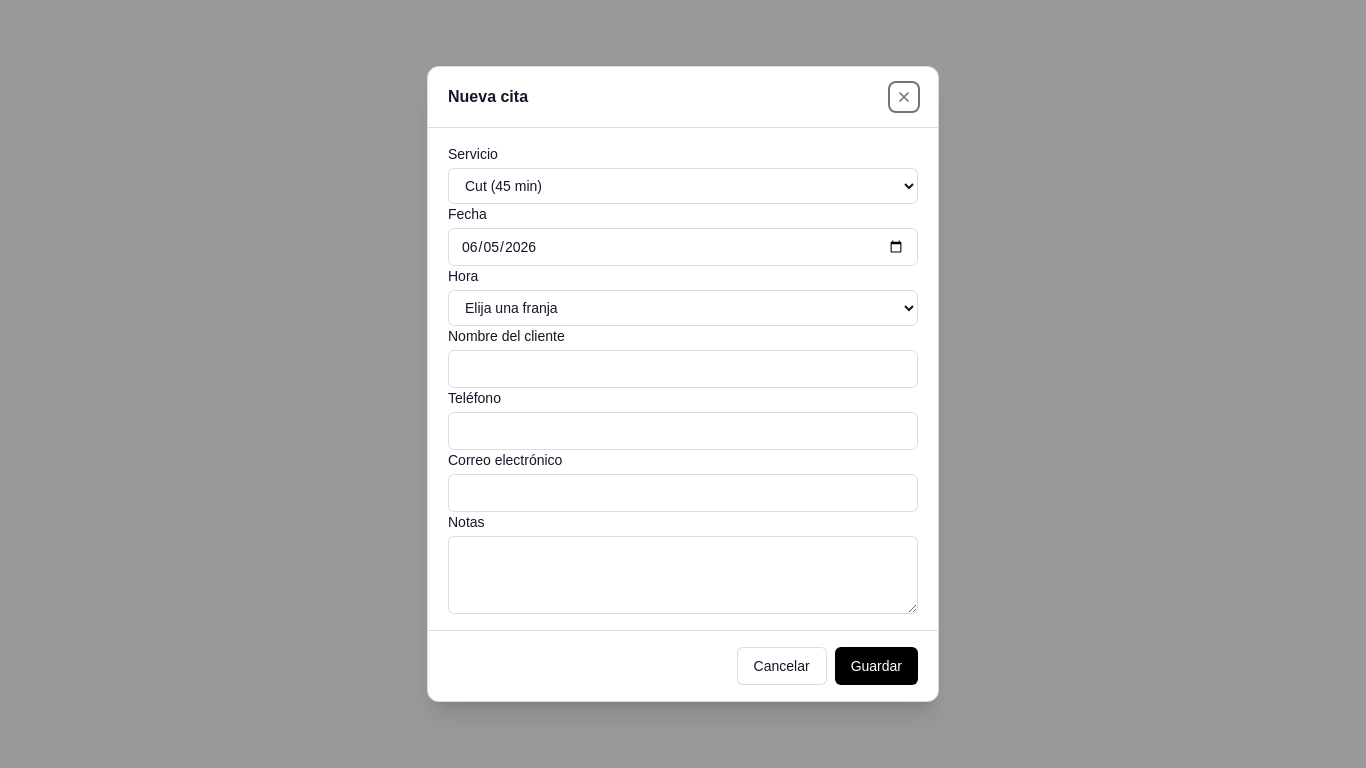
Test case: NewAppointmentModal › shows the API error message when save fails
The image size is (1366, 768).
Select "09:00" in the dropdown labelled "Hora": (683, 308) [448, 290, 918, 326]
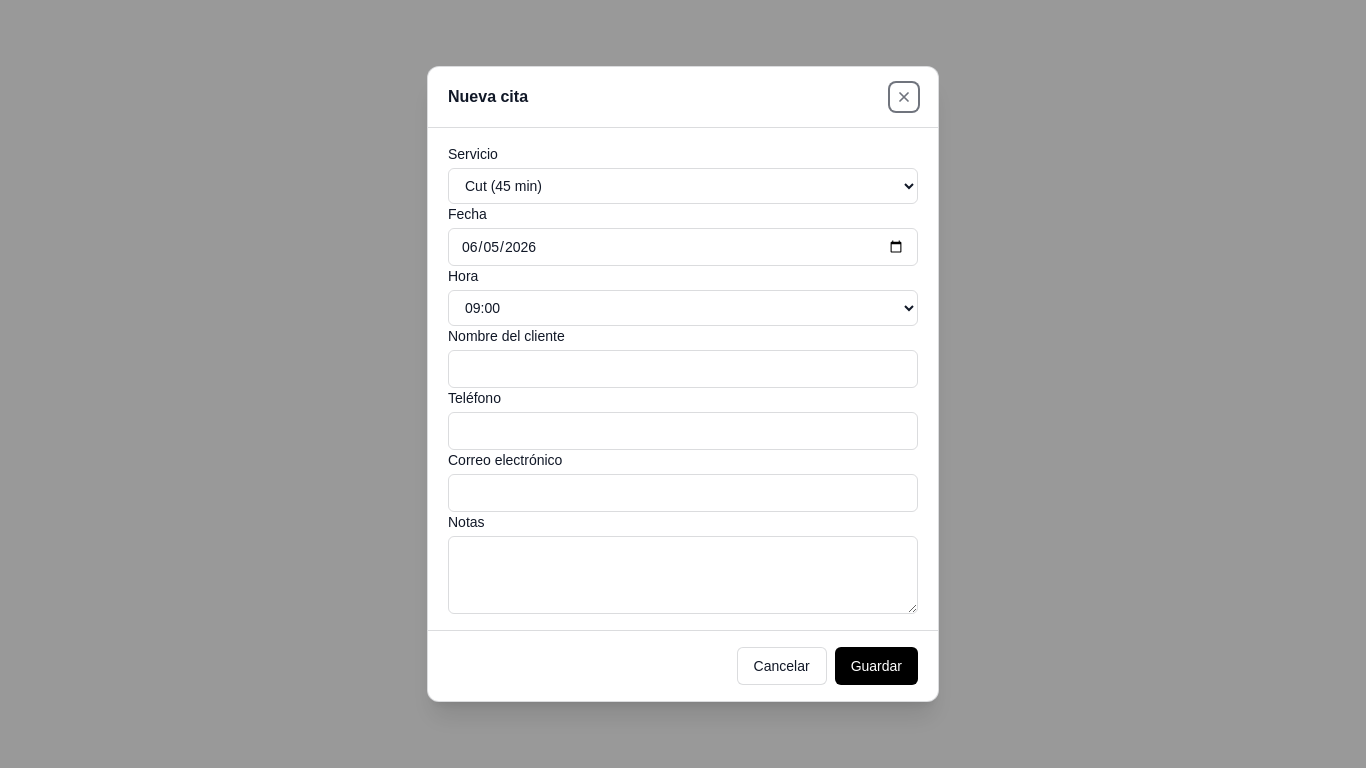
In the field labelled "Nombre del cliente": (683, 369) [448, 350, 918, 388], type "Casey"
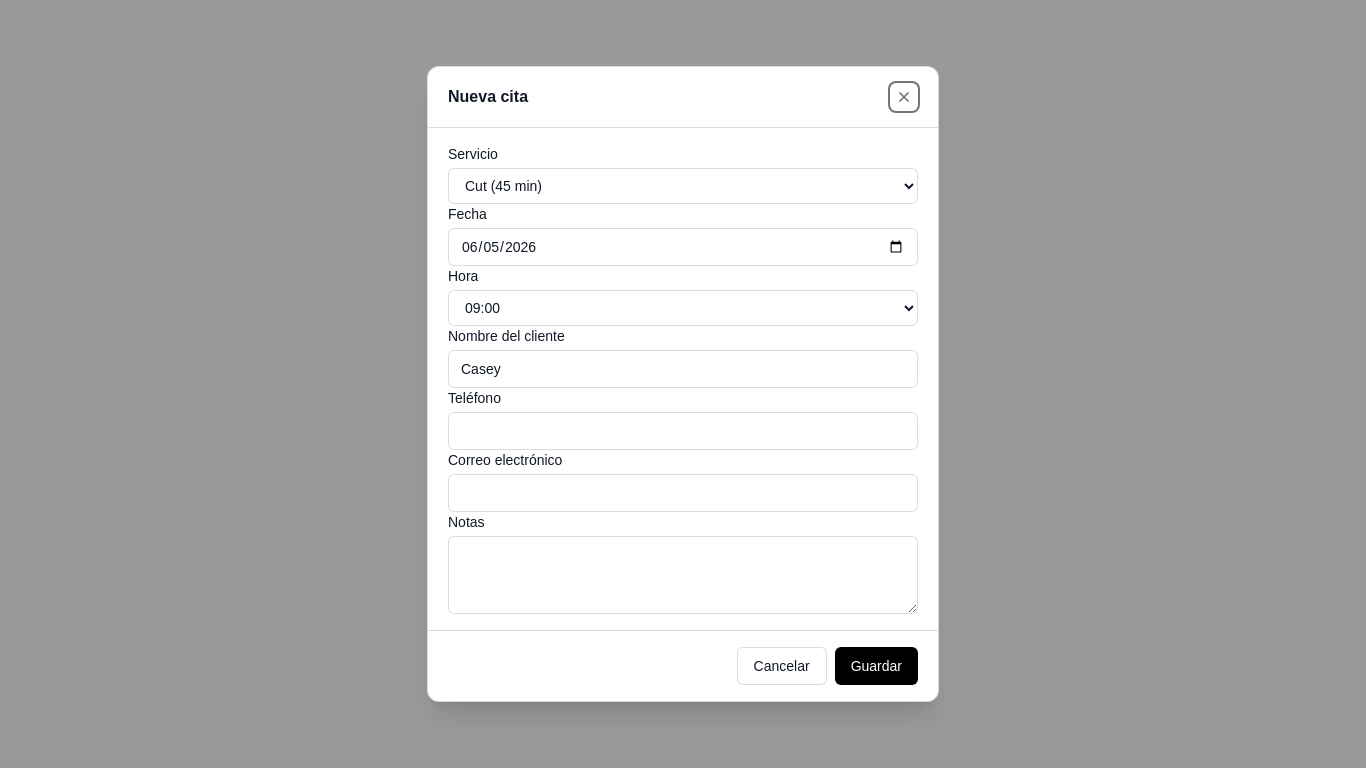
In the field labelled "Teléfono": (683, 431) [448, 412, 918, 450], type "555-1234"
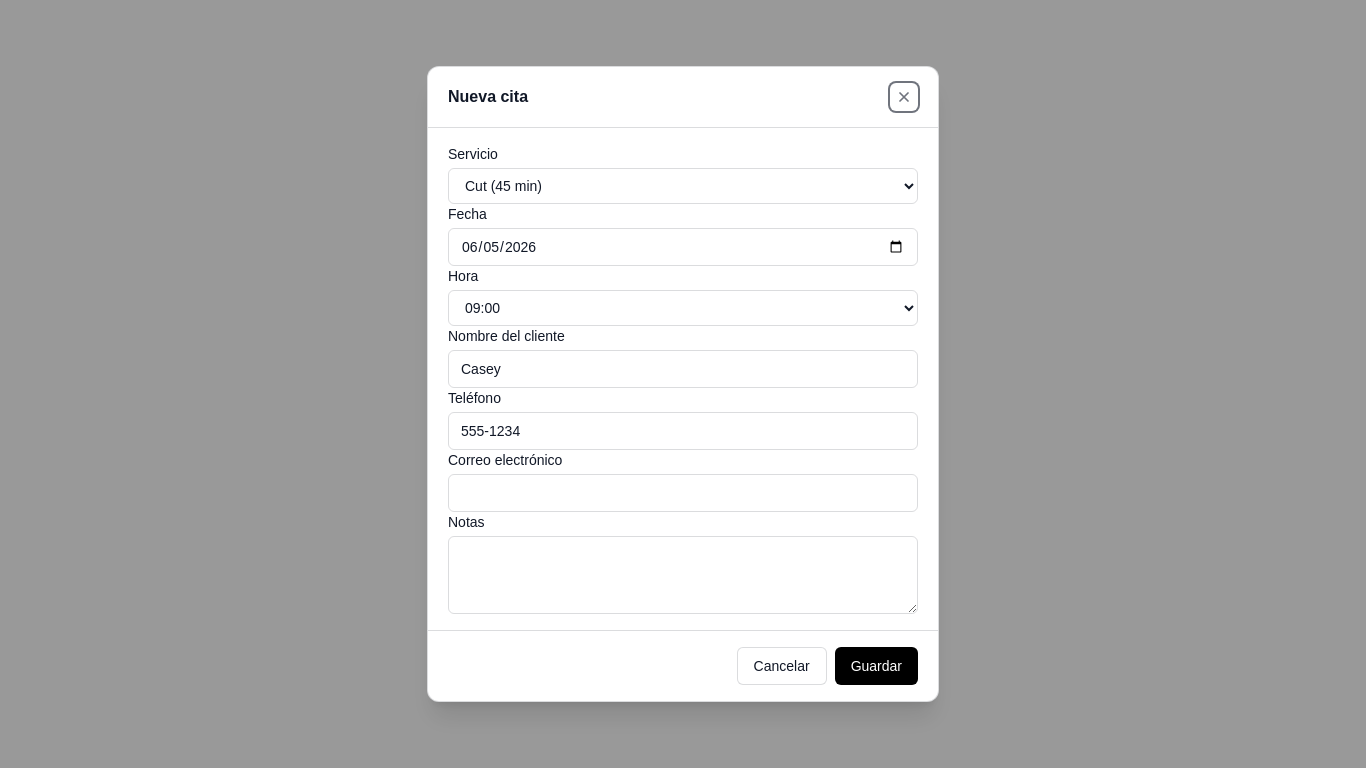
In the field labelled "Correo electrónico": (683, 493) [448, 474, 918, 512], type "casey@example.com"
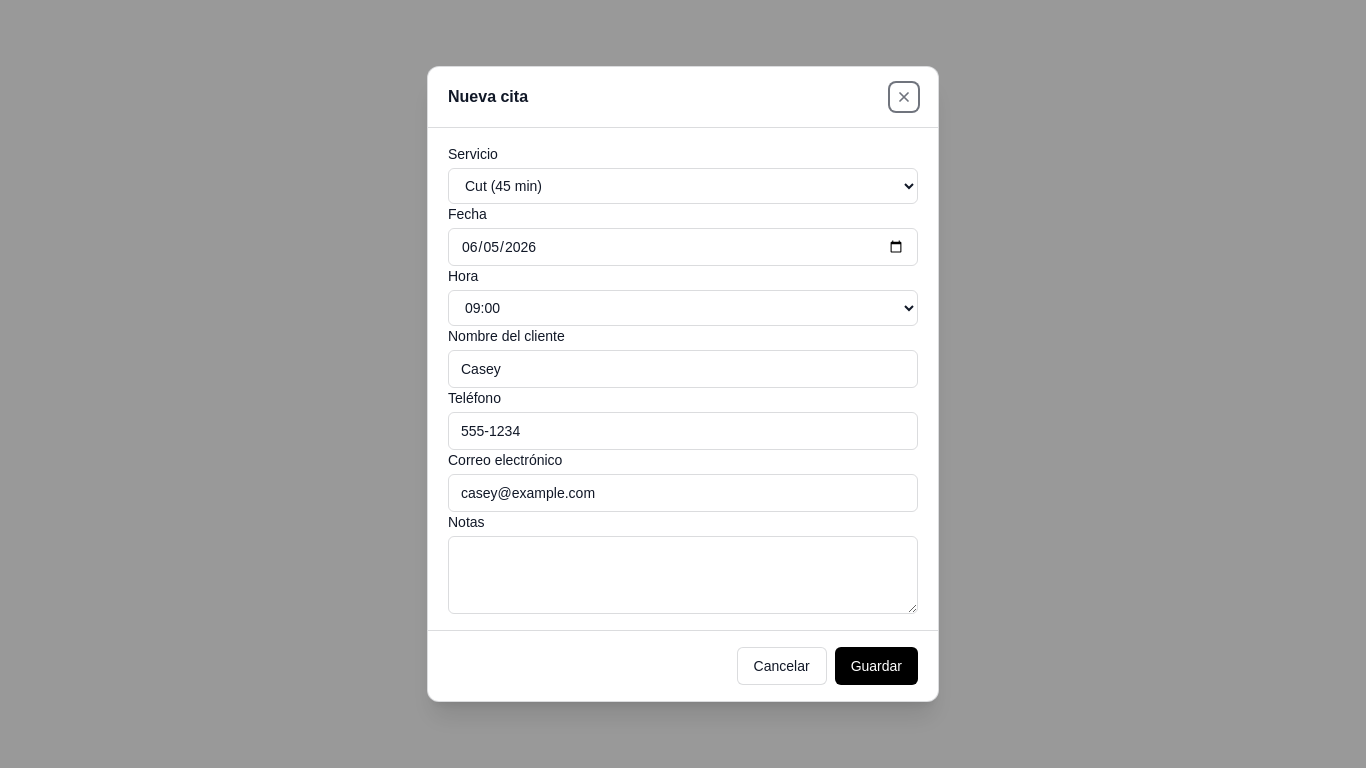
Click the button "Guardar": (876, 666) [835, 647, 918, 685]
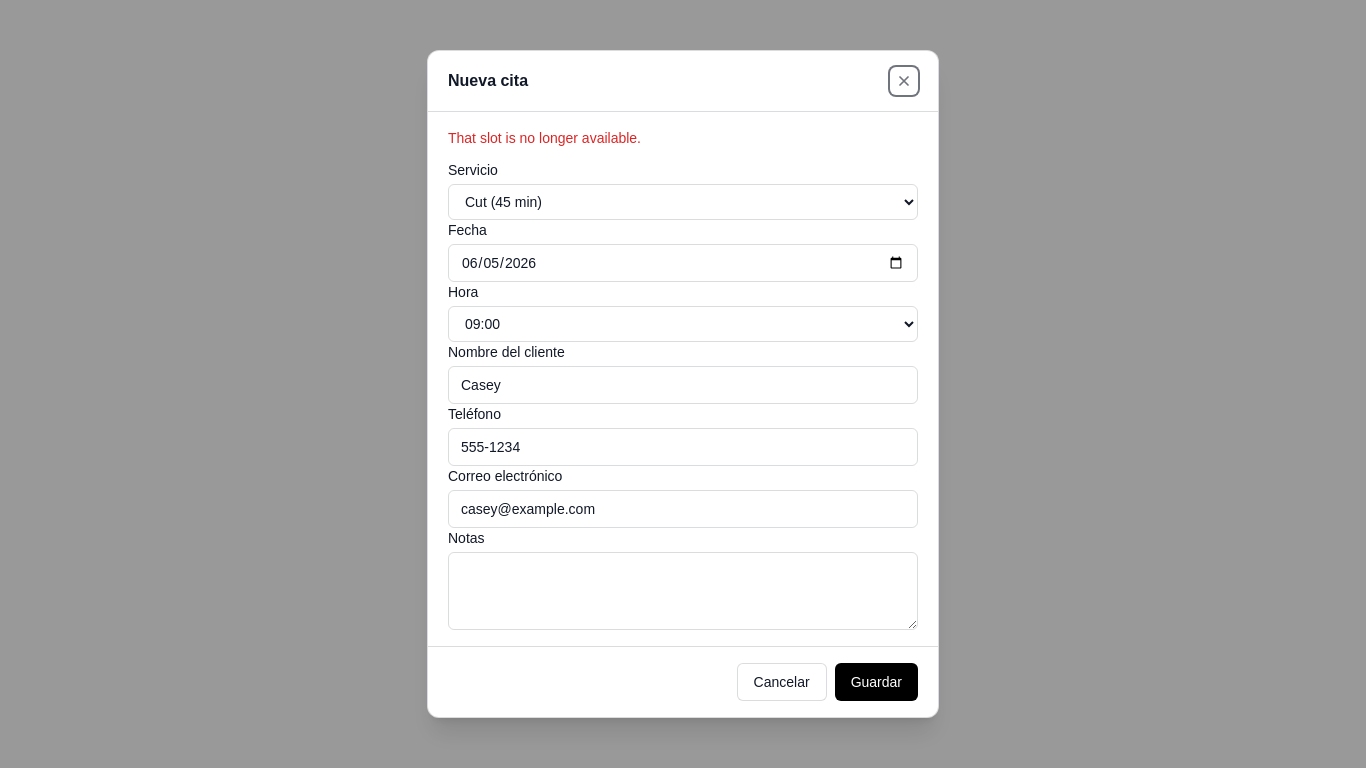
Result: the text "That slot is no longer available." is shown at [448, 130, 641, 146]
